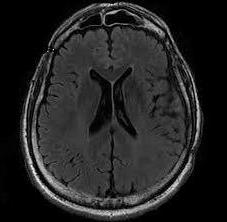Normal_Brain: (21, 1, 206, 222)
